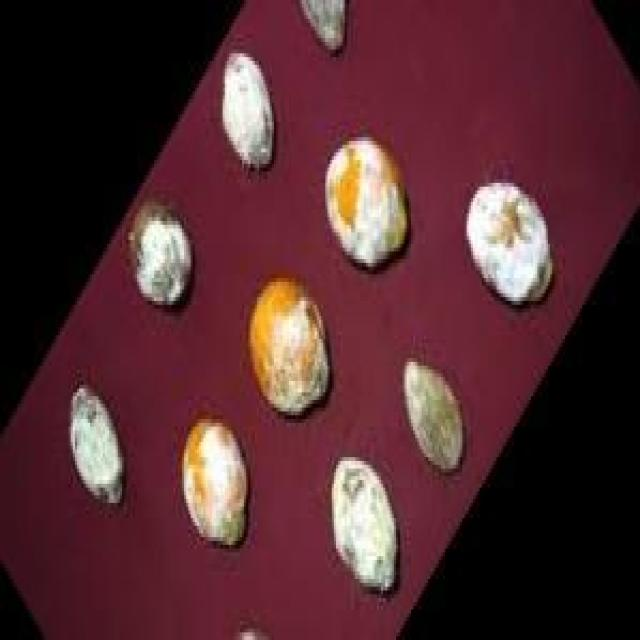damaged: (246, 274, 332, 423), (323, 137, 413, 278), (464, 183, 554, 312), (330, 457, 402, 602), (180, 419, 253, 552), (400, 358, 471, 480), (220, 50, 280, 183), (126, 202, 195, 316), (68, 385, 128, 510), (298, 0, 353, 53)
